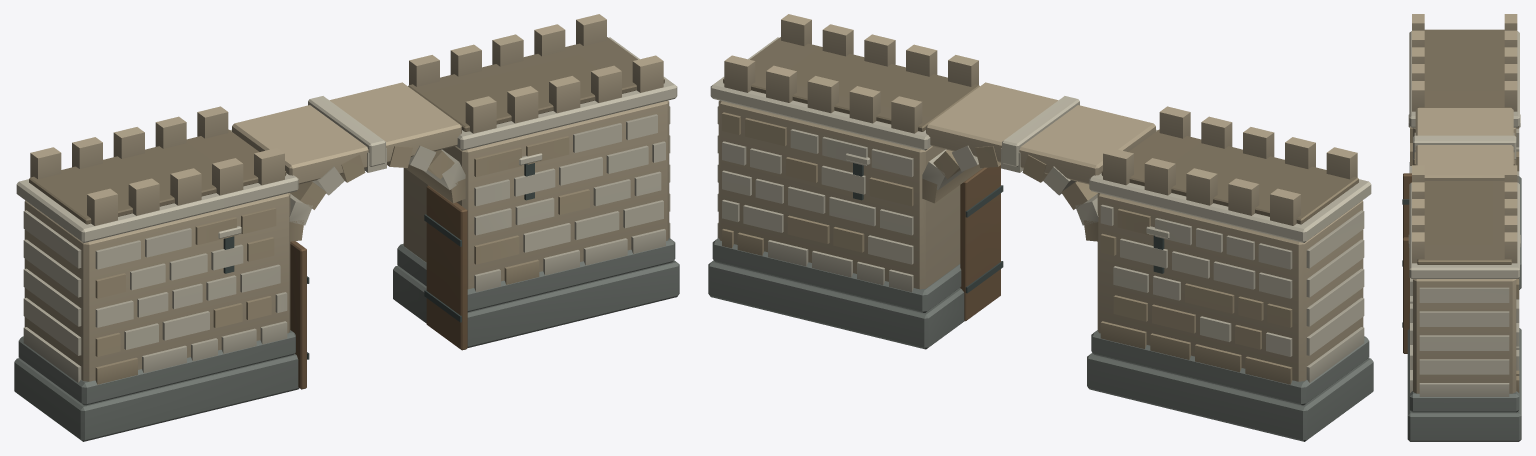
File: town_gate.glb
3 renders of one model, left to right at view 1: azimuth 30°, elevation 25°; view 2: azimuth 150°, elevation 25°; view 3: azimuth 270°, elevation 25°, orthographic. The views are drawn at different scales.
Parts seen in each view (by area): view 1: town_gate.001; view 2: town_gate.001; view 3: town_gate.001.
Boxes of the visible parts, bbox=[...] form: town_gate.001: bbox=[14, 14, 679, 441]; town_gate.001: bbox=[708, 14, 1373, 441]; town_gate.001: bbox=[1402, 14, 1521, 441].
Bounding box in the file's own units: 10.76 × 4.09 × 2.26.
